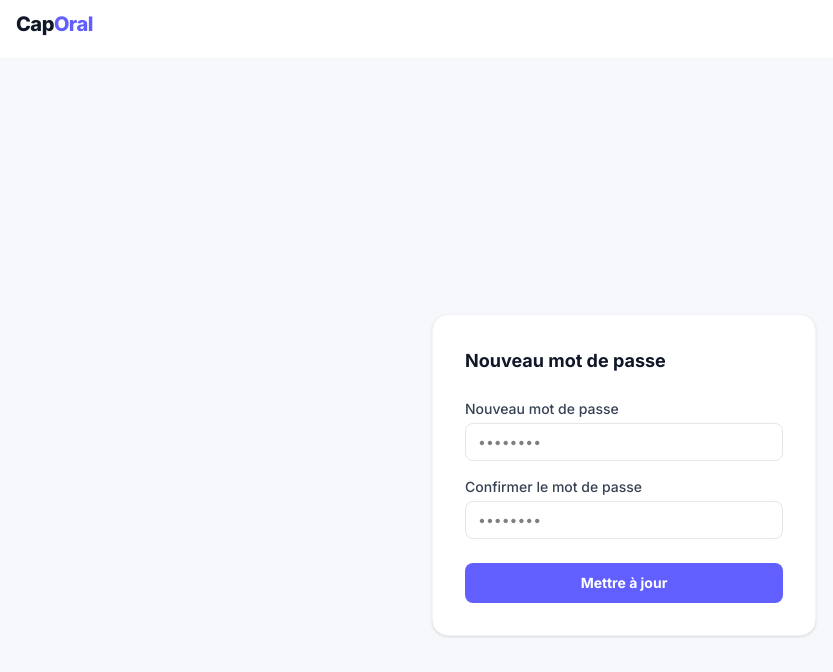
ResetPasswordPage › shows error when passwords do not match
The image size is (833, 672).
Type "abcdef" into the 1st password field with placeholder "••••••••". click: [624, 442]
box: [465,422,783,460]
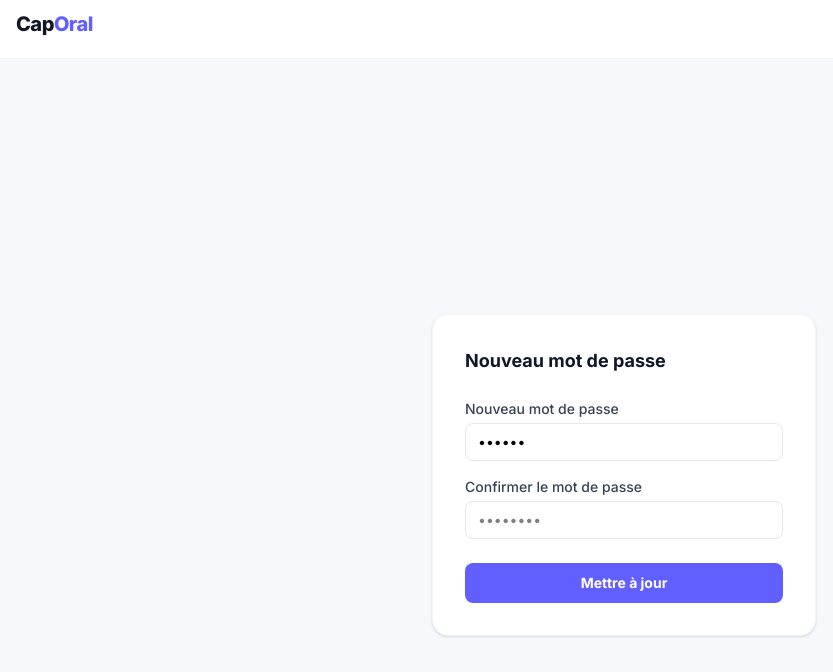
Type "xyz" into the password field with placeholder "••••••••". click: [624, 520]
box: [465,500,783,538]
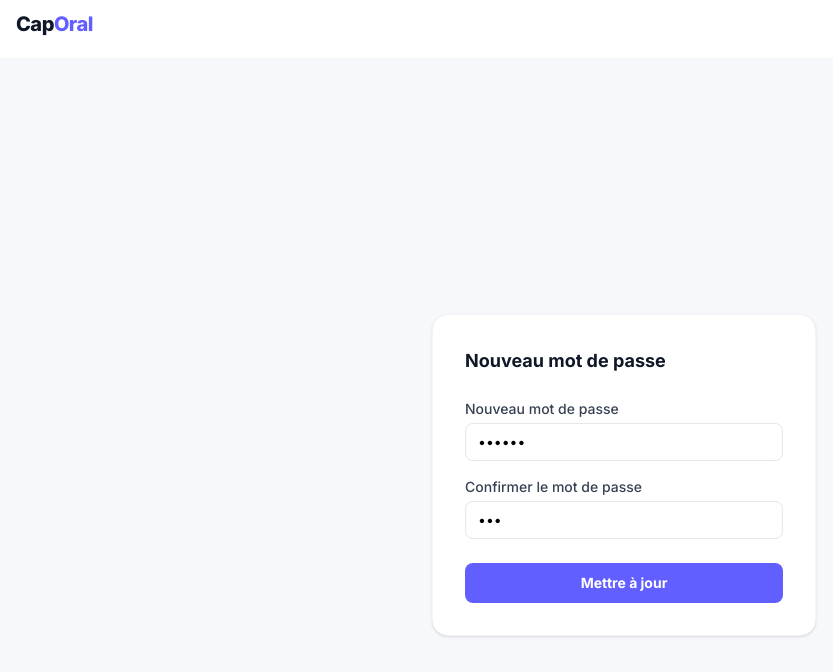
Submit the form, box [465,398,783,602]
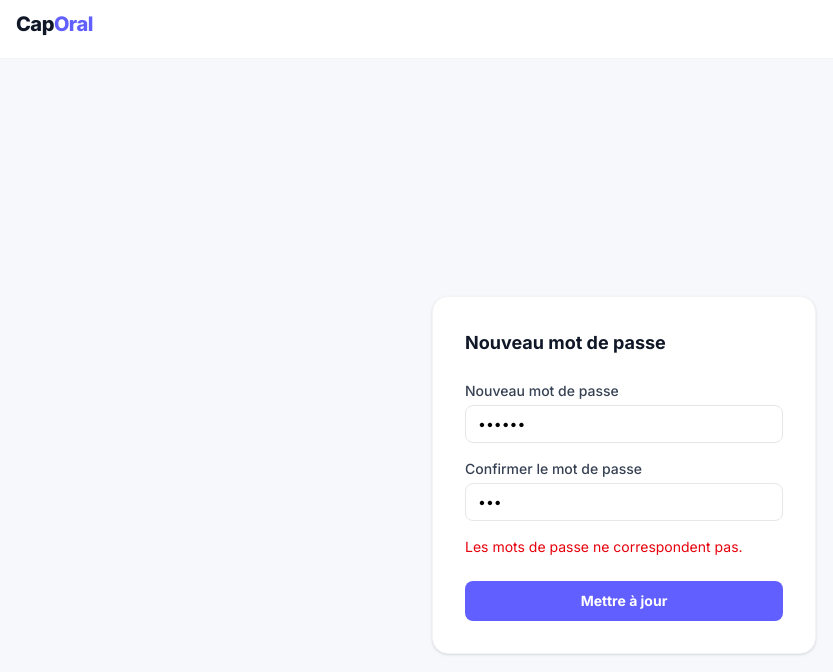
Now the text "Les mots de passe ne correspondent pas." is shown, box [465,536,783,556]
